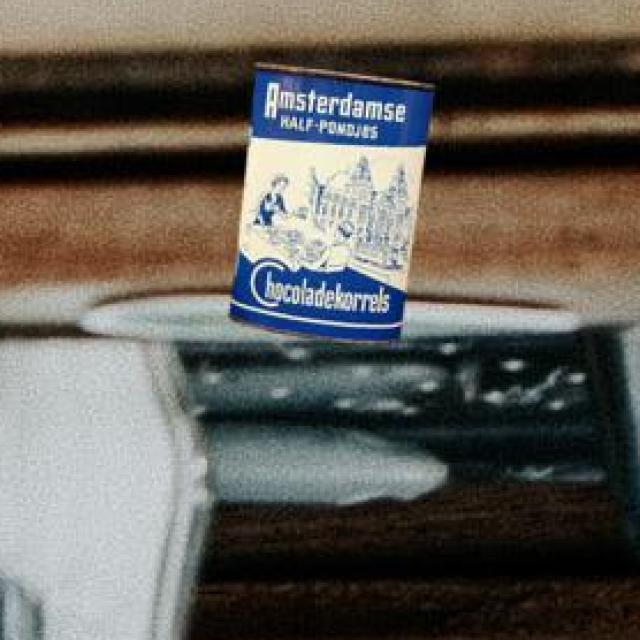logam: (234, 66, 439, 346)
